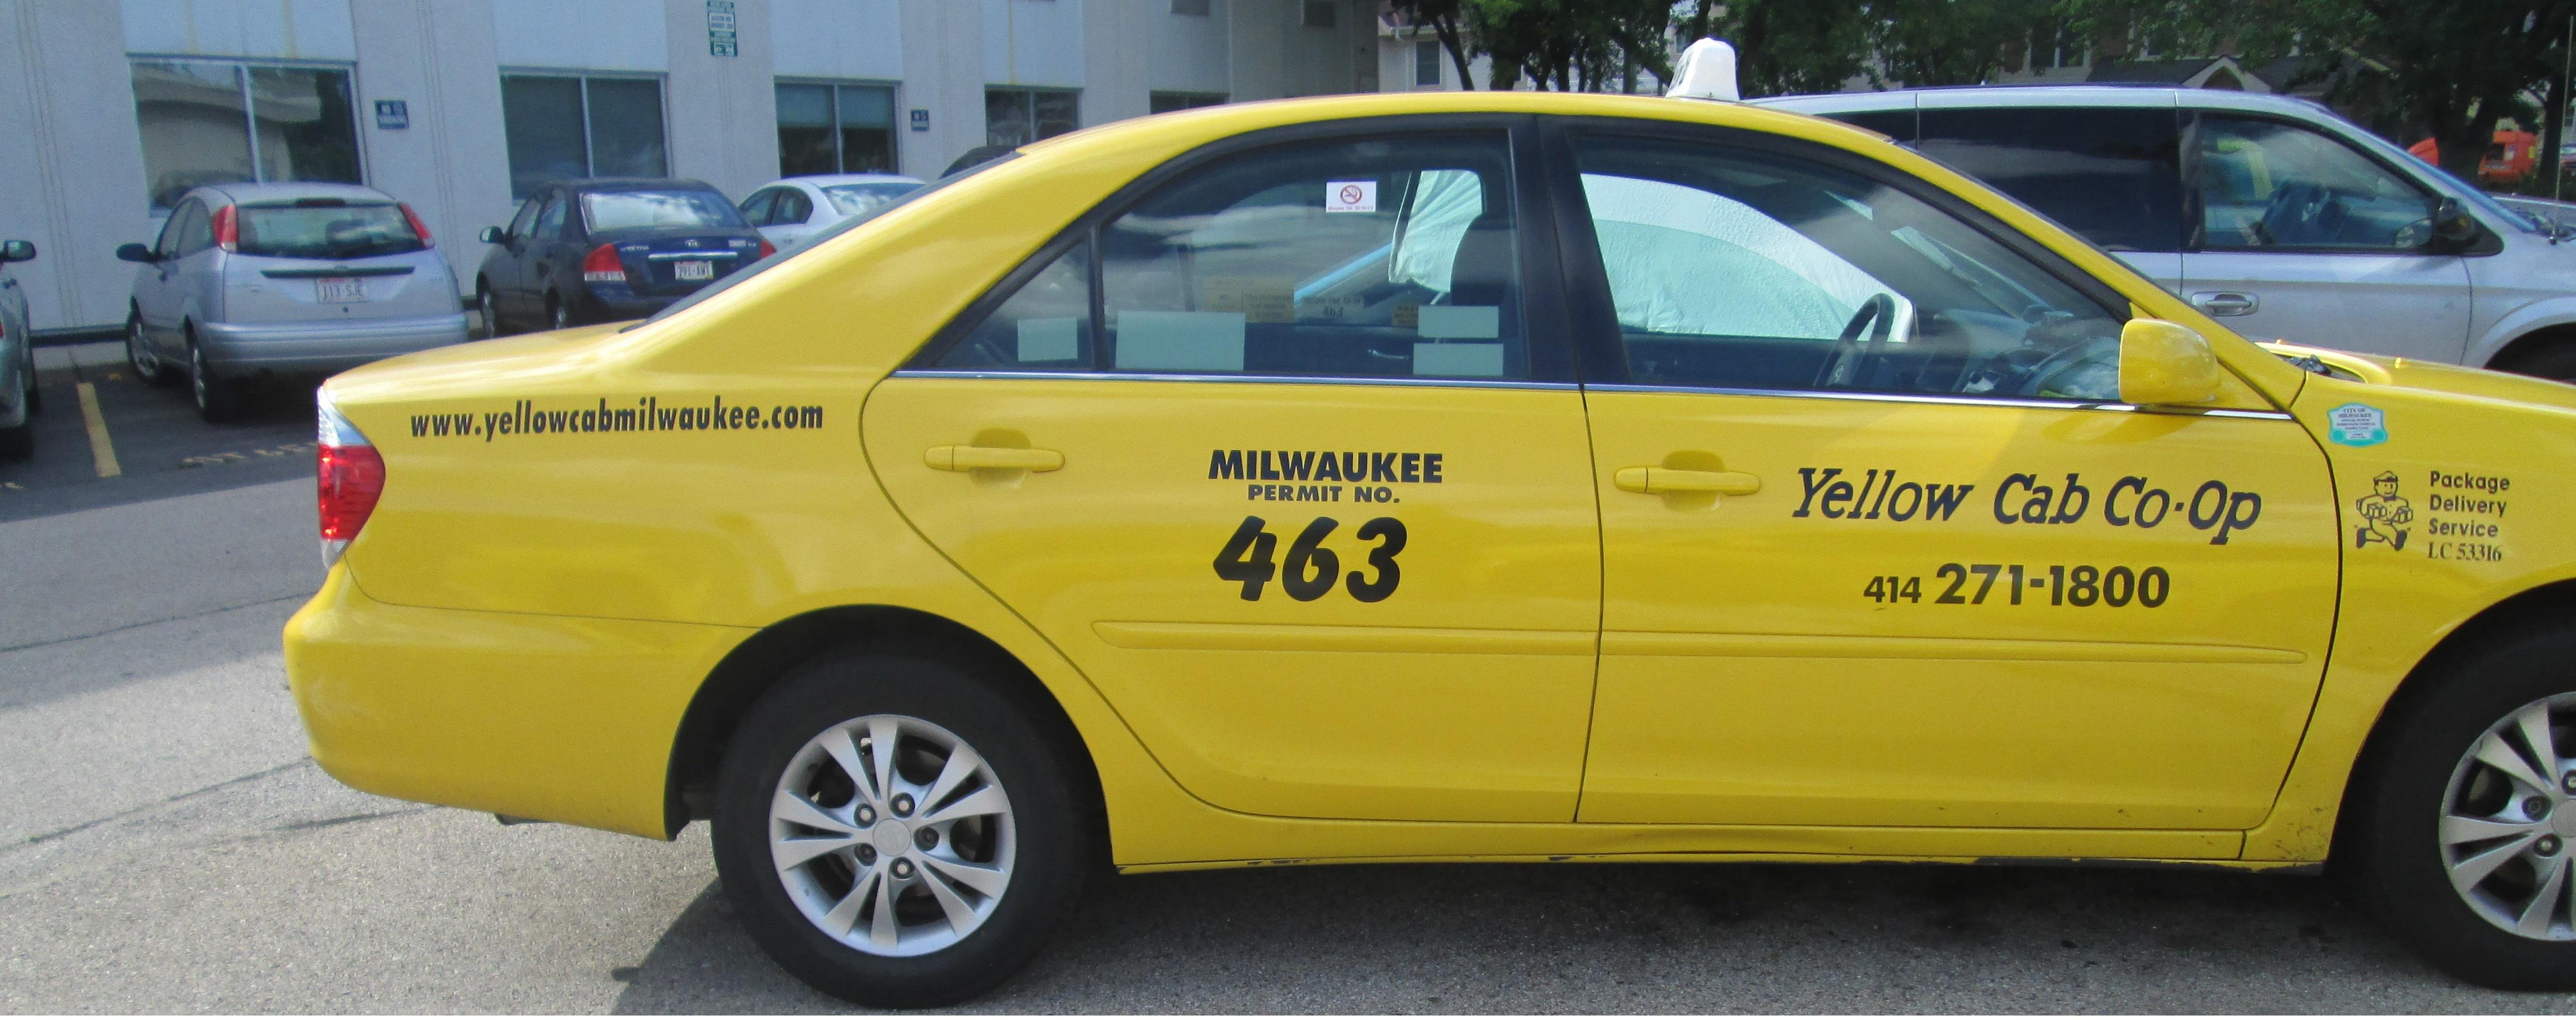taxi: (195, 18, 2576, 1005)
